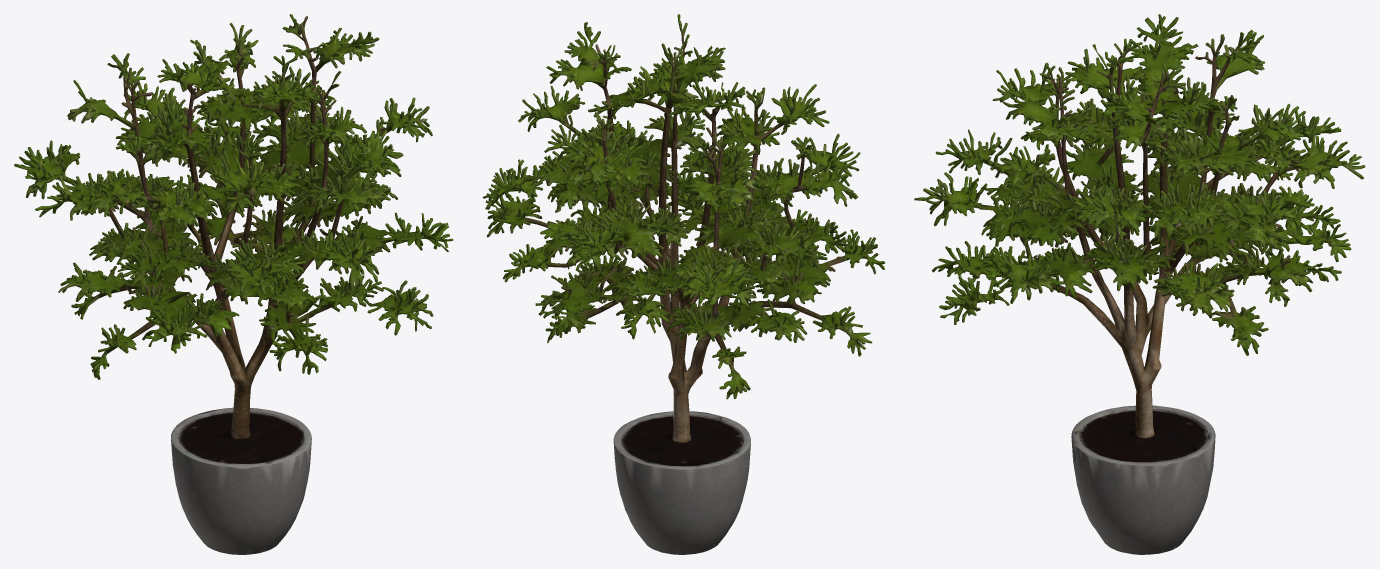
The model's file is tree_pot.glb.
3 renders of one model, left to right at view 1: azimuth 30°, elevation 25°; view 2: azimuth 150°, elevation 25°; view 3: azimuth 270°, elevation 25°, orthographic. The views are drawn at different scales.
Parts seen in each view (by area): view 1: tripo_node_1b0d959a-7cf9-4ce7-a38e-07beb3e64792; view 2: tripo_node_1b0d959a-7cf9-4ce7-a38e-07beb3e64792; view 3: tripo_node_1b0d959a-7cf9-4ce7-a38e-07beb3e64792.
Boxes of the visible parts, x1=… form: tripo_node_1b0d959a-7cf9-4ce7-a38e-07beb3e64792: x1=14, y1=14, x2=453, y2=554; tripo_node_1b0d959a-7cf9-4ce7-a38e-07beb3e64792: x1=482, y1=14, x2=885, y2=554; tripo_node_1b0d959a-7cf9-4ce7-a38e-07beb3e64792: x1=914, y1=14, x2=1365, y2=554.
Bounding box in the file's own units: 0.8986 × 1.2 × 0.9697.
1 material, 1 textured.
